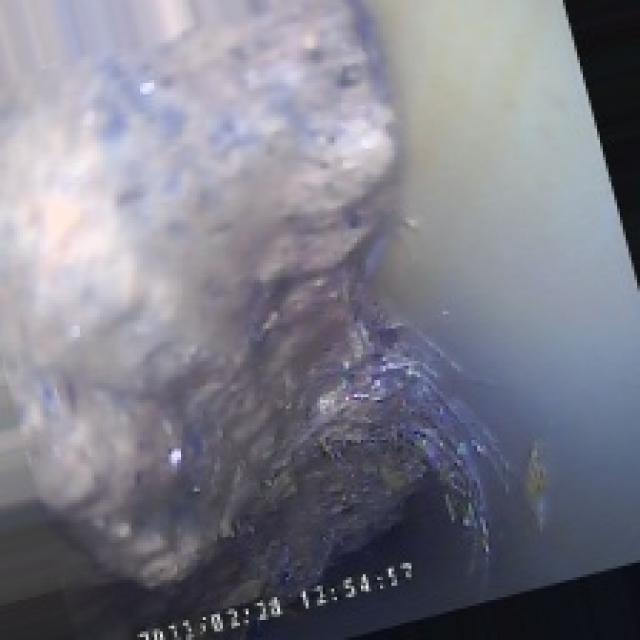sluge accumulation: (66, 52, 477, 554)
